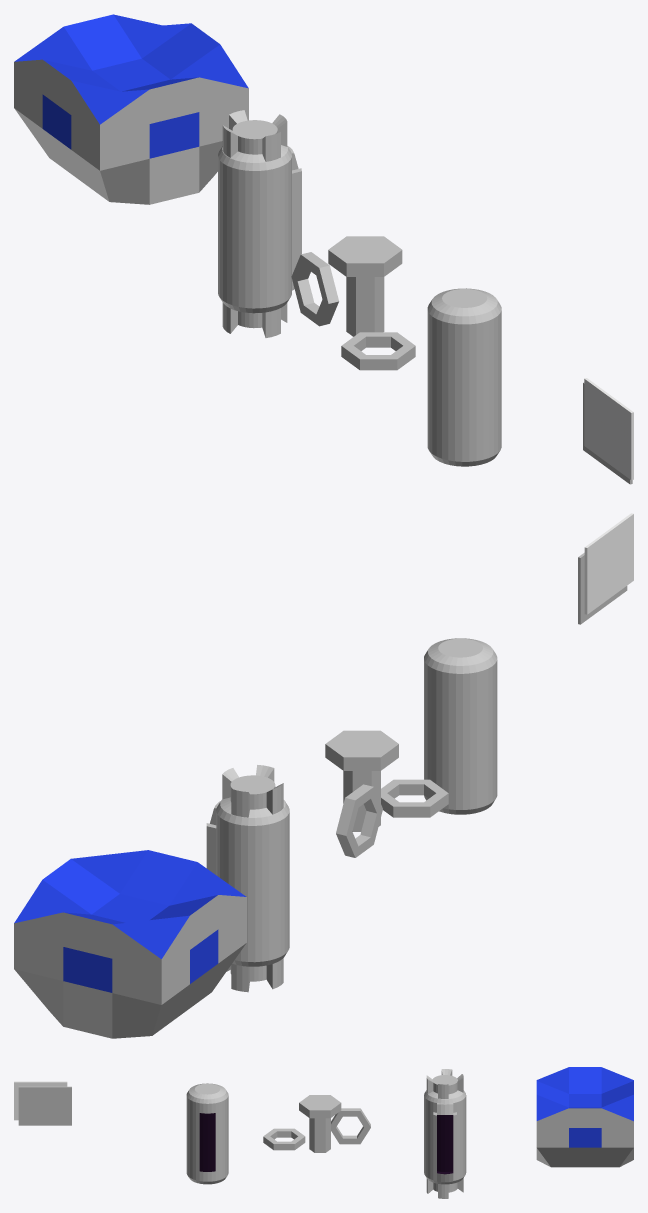
File: Крафт компоненты.fbx
3 renders of one model, top to bottom at view 1: azimuth 30°, elevation 25°; view 2: azimuth 150°, elevation 25°; view 3: azimuth 270°, elevation 25°, orthographic. The views are drawn at different scales.
Visible parts, largest first — view 1: Health shard, Eng shard, Jija, Nuts and bolts, PCB; view 2: Health shard, Eng shard, Jija, Nuts and bolts, PCB; view 3: Health shard, Eng shard, Jija, Nuts and bolts, PCB.
Boxes of the visible parts, x1,y1,x2,y2 form: Health shard: (14, 14, 248, 204); Eng shard: (218, 110, 301, 337); Jija: (427, 288, 501, 466); Nuts and bolts: (291, 236, 415, 370); PCB: (583, 378, 633, 484); Health shard: (14, 850, 246, 1038); Eng shard: (206, 765, 289, 992); Jija: (424, 638, 497, 814); Nuts and bolts: (325, 730, 448, 857); PCB: (578, 513, 633, 624); Health shard: (536, 1067, 633, 1167); Eng shard: (424, 1069, 466, 1198); Jija: (186, 1083, 228, 1184); Nuts and bolts: (263, 1095, 370, 1152); PCB: (14, 1081, 71, 1125).
Bounding box in the file's own units: 463 × 600 × 2945.
